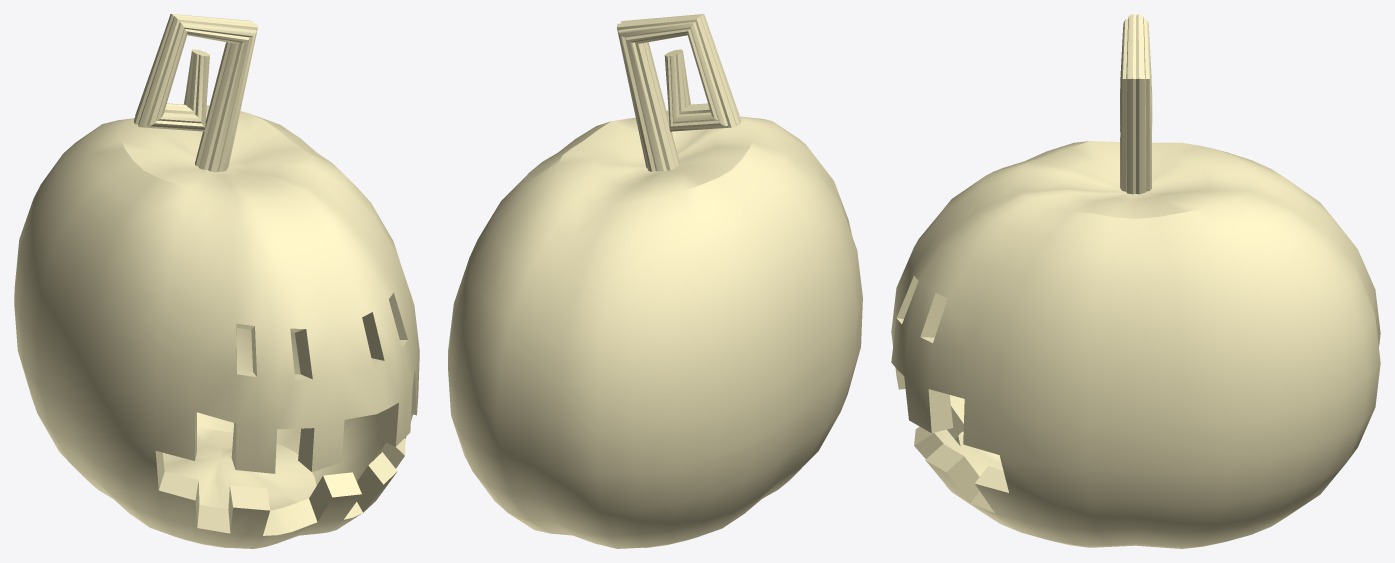
The model's file is Square pumpkin.fbx.
3 views of the same model, side by side, from view 1: azimuth 30°, elevation 25°; view 2: azimuth 150°, elevation 25°; view 3: azimuth 270°, elevation 25° (orthographic). The views are drawn at different scales.
Visible parts, largest first — view 1: Square face pumpkin; view 2: Square face pumpkin; view 3: Square face pumpkin.
Boxes of the visible parts, x1,y1,x2,y2 form: Square face pumpkin: (14,14,419,548); Square face pumpkin: (448,14,862,548); Square face pumpkin: (891,14,1380,548).
Size of the model in its own units: 56.91 by 85.71 by 79.37.
